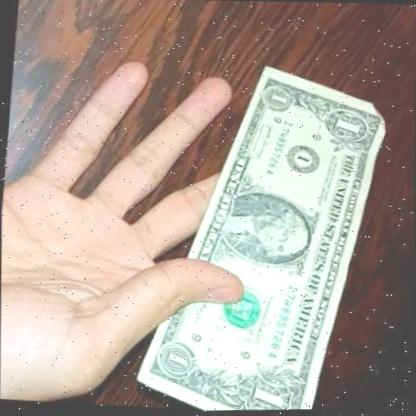dollar_front: (152, 53, 397, 415)
